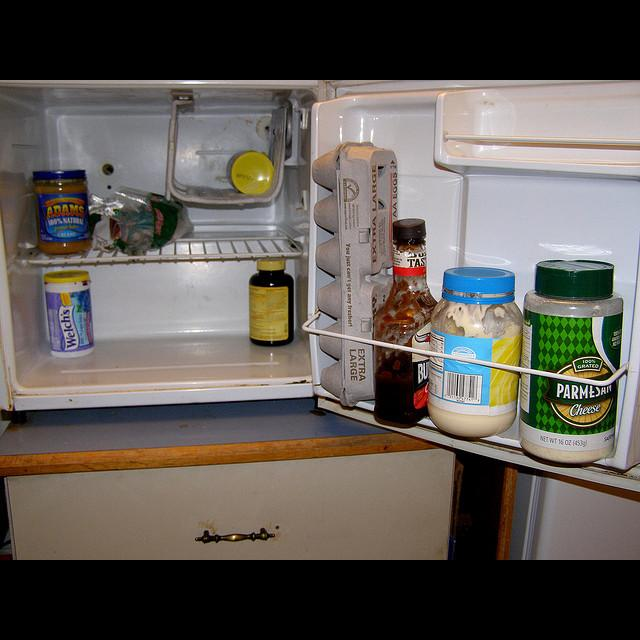Refrigerator: (1, 82, 640, 499)
